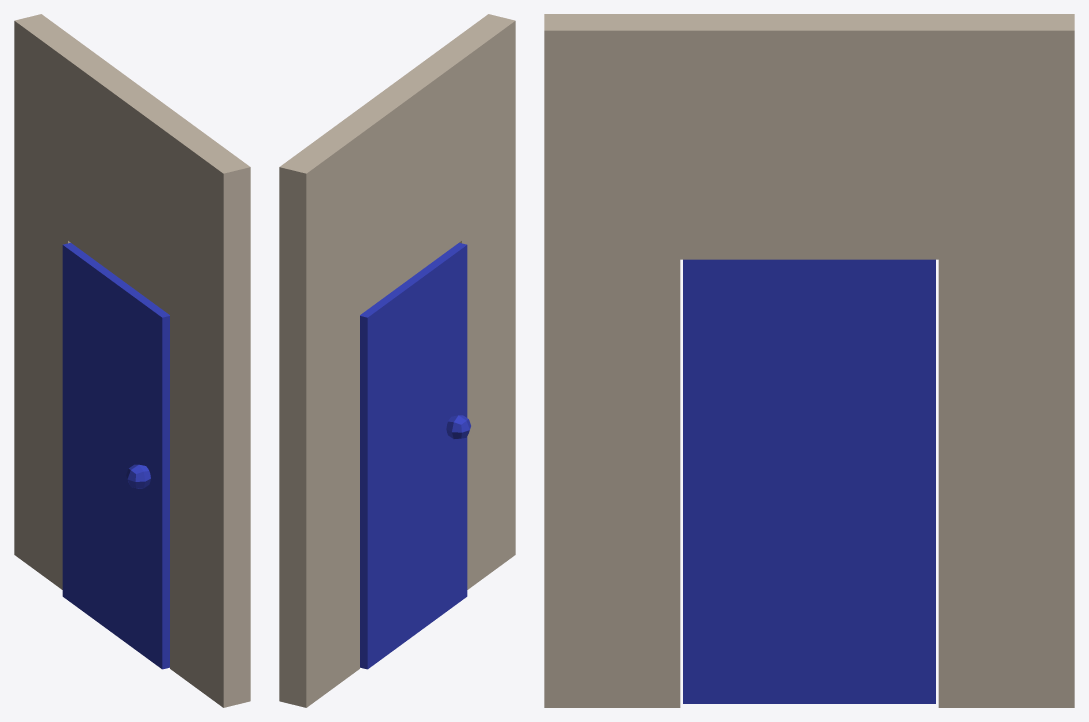
Rendered from Segment_Door.fbx.
3 renders of one model, left to right at view 1: azimuth 30°, elevation 25°; view 2: azimuth 150°, elevation 25°; view 3: azimuth 270°, elevation 25°, orthographic. The views are drawn at different scales.
Parts seen in each view (by area): view 1: Cube.004, Cube.009; view 2: Cube.004, Cube.009; view 3: Cube.004, Cube.009.
Part boxes in pixels (bbox=[...]): Cube.004: bbox=[14, 14, 250, 707]; Cube.009: bbox=[62, 242, 169, 669]; Cube.004: bbox=[279, 14, 515, 707]; Cube.009: bbox=[360, 242, 470, 669]; Cube.004: bbox=[544, 14, 1074, 707]; Cube.009: bbox=[683, 259, 935, 703].
Bounding box in the file's own units: 43.05 × 420 × 298.
